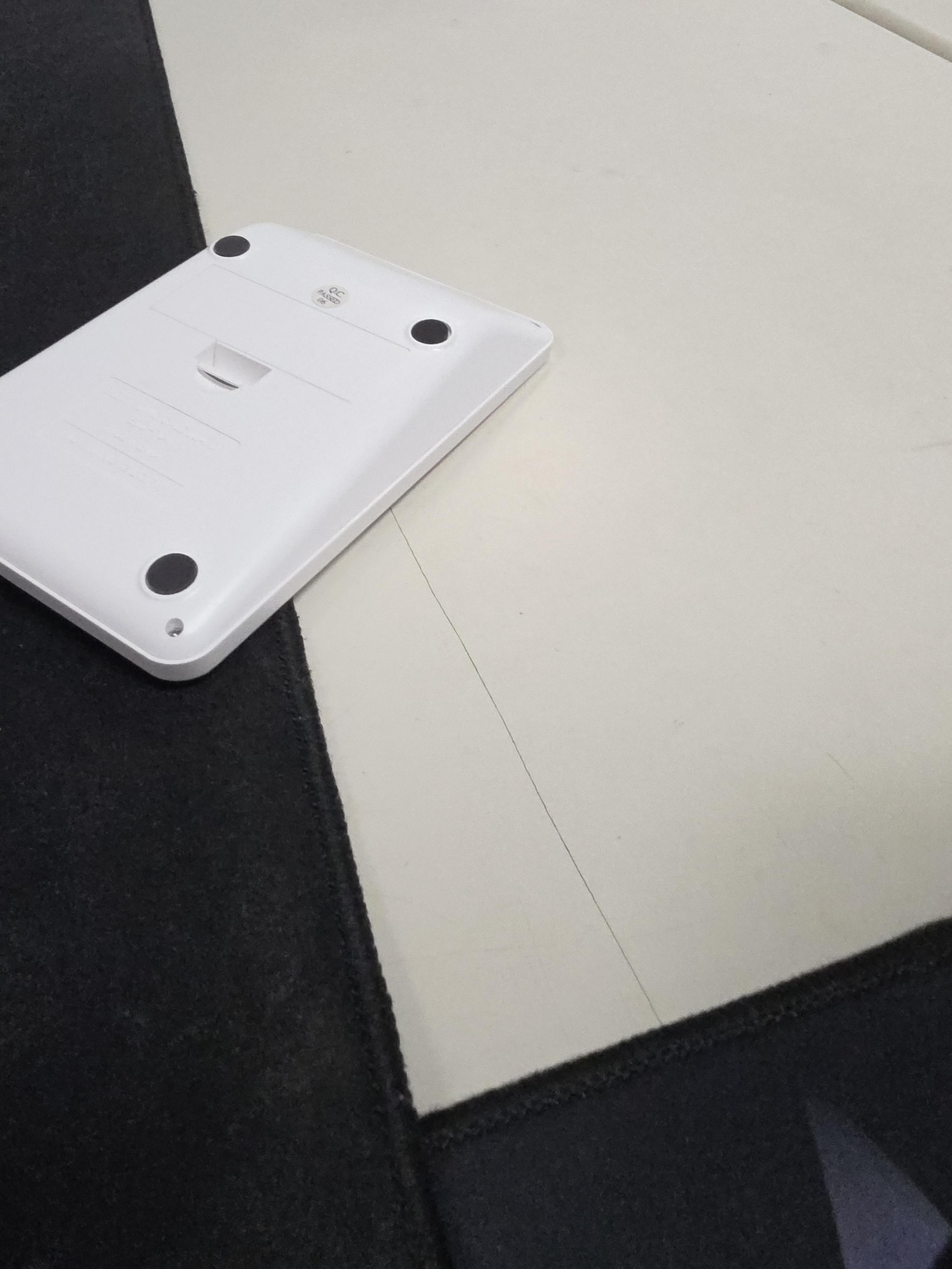calculator: (0, 222, 554, 681)
